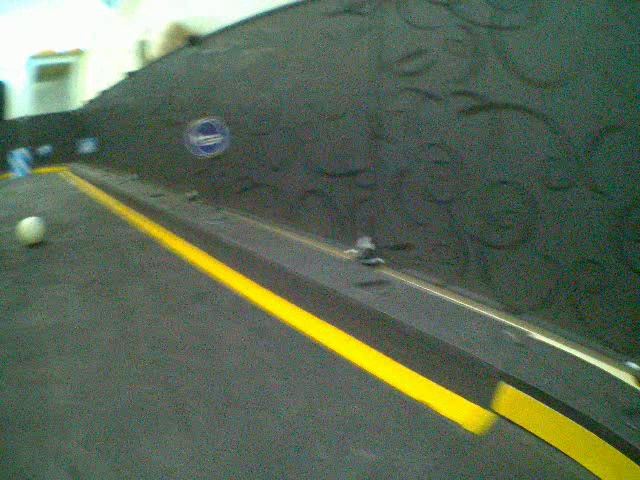ball: (16, 214, 48, 247)
